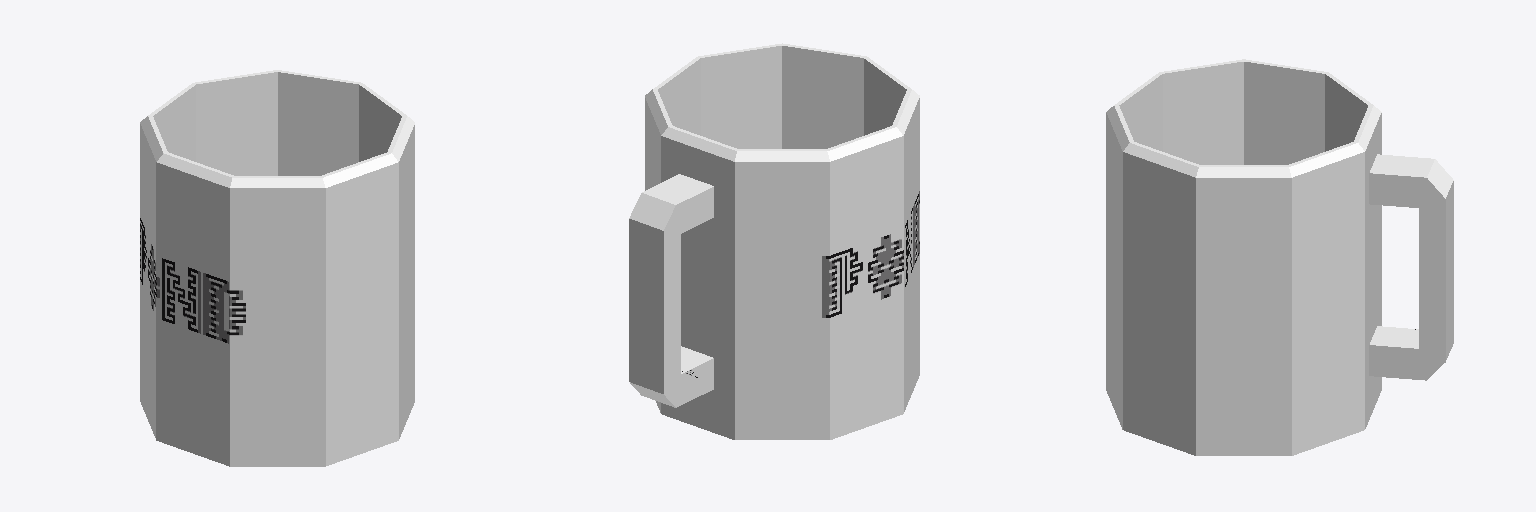
3 views of the same model, side by side, from view 1: azimuth 30°, elevation 25°; view 2: azimuth 150°, elevation 25°; view 3: azimuth 270°, elevation 25° (orthographic).
Parts seen in each view (by area): view 1: polySurface1_N3D; view 2: polySurface1_N3D; view 3: polySurface1_N3D.
Boxes of the visible parts, box(x1,y1,x2,y2) form: polySurface1_N3D: box(140, 70, 414, 466); polySurface1_N3D: box(629, 43, 919, 439); polySurface1_N3D: box(1106, 59, 1453, 455).
Bounding box in the file's own units: 155 × 180 × 198.
Materials: 1 (1 with a texture image).